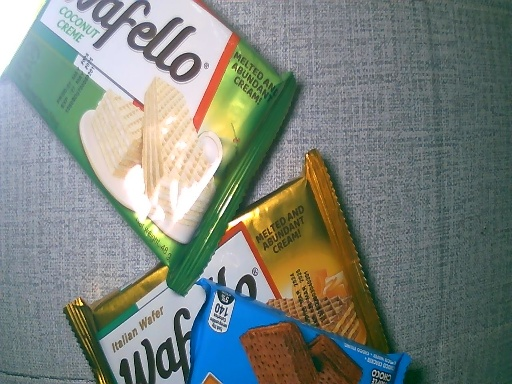plastic: (1, 1, 310, 290), (69, 148, 399, 384), (184, 279, 414, 384)
